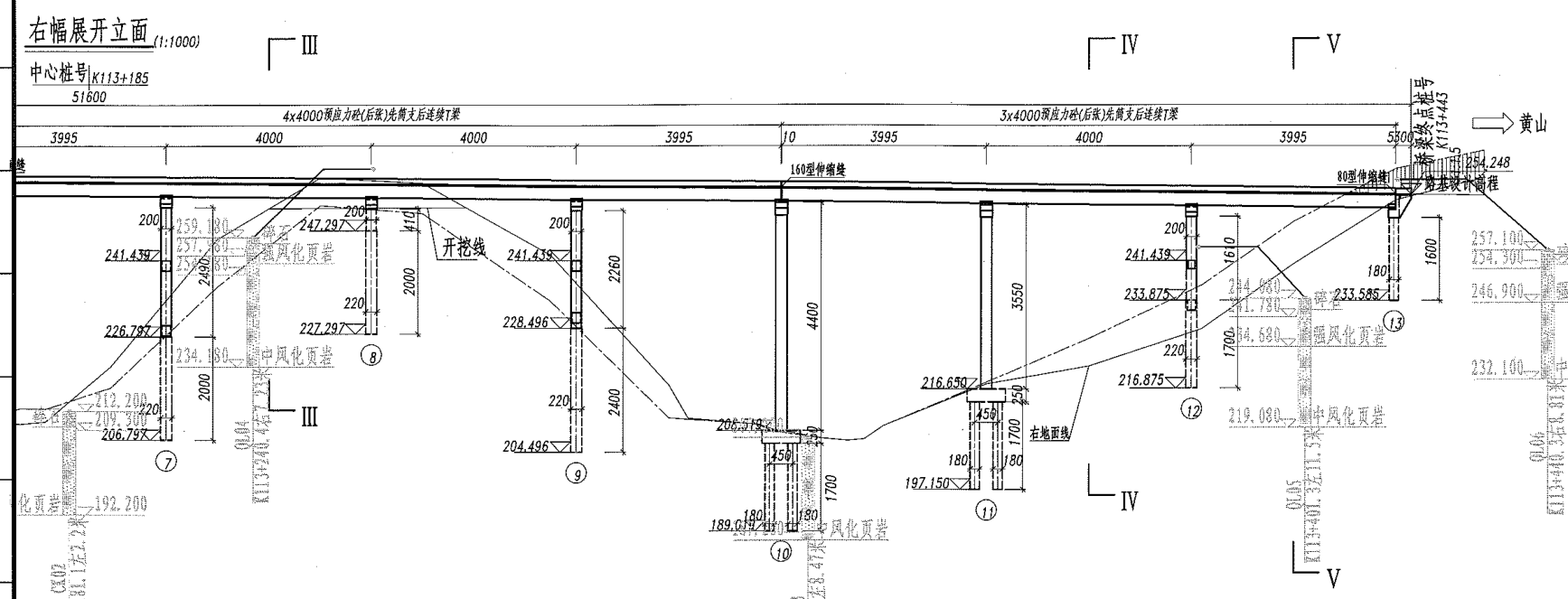A: (14, 84, 1420, 112)
B: (9, 98, 797, 136), (771, 99, 1397, 136)
C: (702, 196, 813, 569), (900, 198, 1023, 530), (492, 190, 599, 491), (94, 188, 186, 477), (1115, 196, 1211, 426), (294, 187, 391, 371), (1338, 201, 1420, 342)
